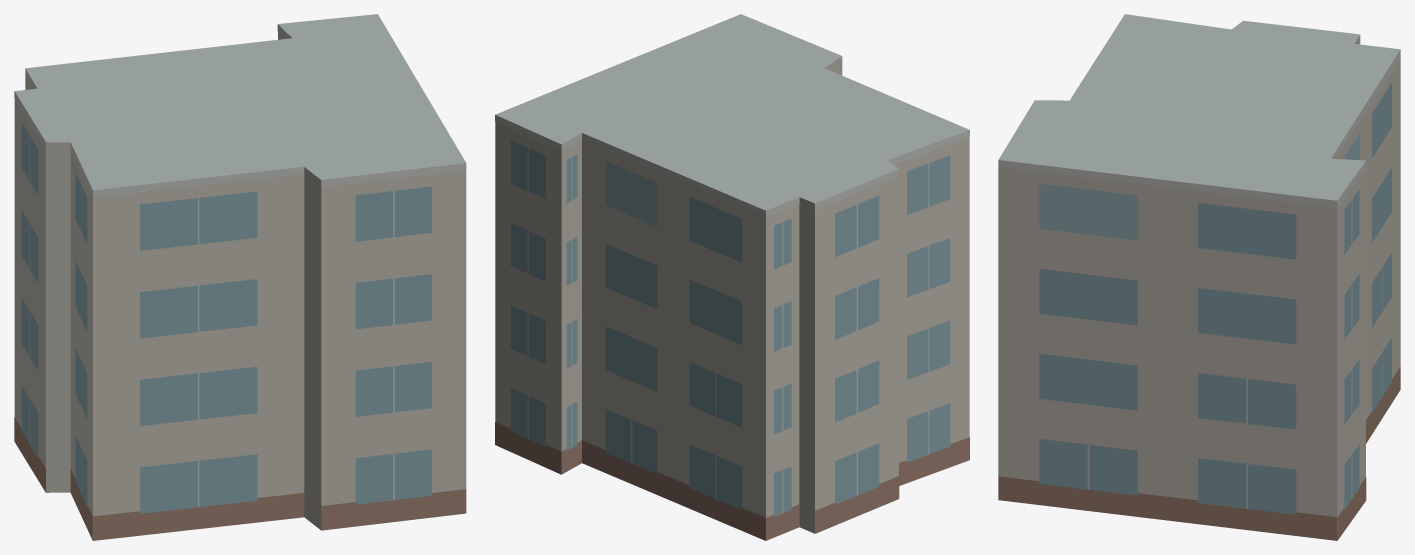
Rendered from survey-upis-32515731.glb.
3 views of the same model, side by side, from view 1: azimuth 30°, elevation 25°; view 2: azimuth 150°, elevation 25°; view 3: azimuth 270°, elevation 25° (orthographic). The views are drawn at different scales.
Parts seen in each view (by area): view 1: survey-upis-32515731.tmp; view 2: survey-upis-32515731.tmp; view 3: survey-upis-32515731.tmp.
Boxes of the visible parts, <box> form: survey-upis-32515731.tmp: <box>14,14,466,540</box>; survey-upis-32515731.tmp: <box>495,14,969,540</box>; survey-upis-32515731.tmp: <box>998,14,1400,540</box>.
Bounding box in the file's own units: 13.79 × 11.7 × 12.55.
